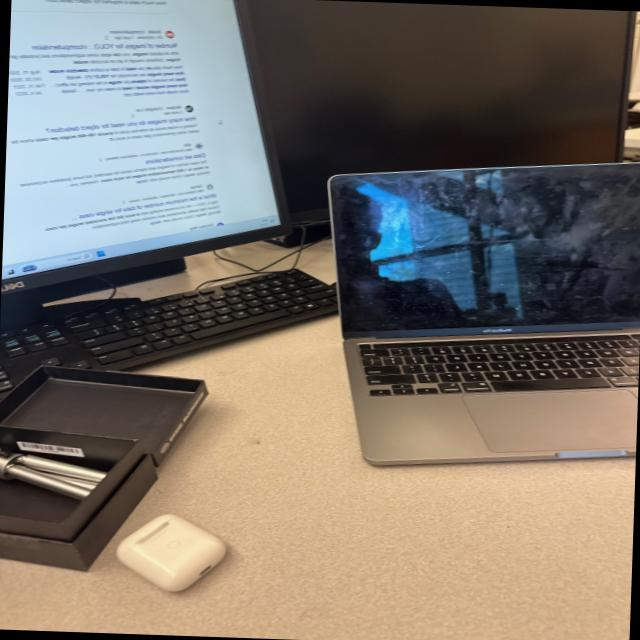monitor: (0, 251, 346, 418), (346, 322, 640, 409)
robotic-arm: (1, 0, 303, 303), (230, 0, 640, 171)
